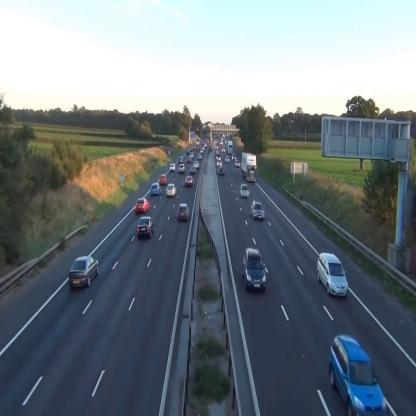car: (328, 334, 386, 416), (317, 253, 348, 298), (68, 256, 100, 290), (242, 247, 266, 292), (137, 216, 155, 239), (251, 201, 265, 221), (135, 197, 149, 214), (177, 204, 190, 222), (166, 184, 178, 198), (240, 184, 250, 198), (151, 182, 161, 194), (184, 176, 194, 188), (160, 173, 166, 185), (178, 164, 186, 172), (169, 163, 176, 172), (219, 165, 224, 175), (190, 166, 196, 174)
lorry: (242, 152, 258, 184)
